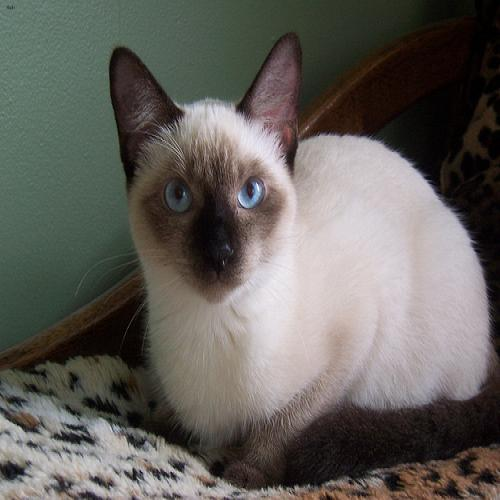siamese: (103, 15, 326, 325)
